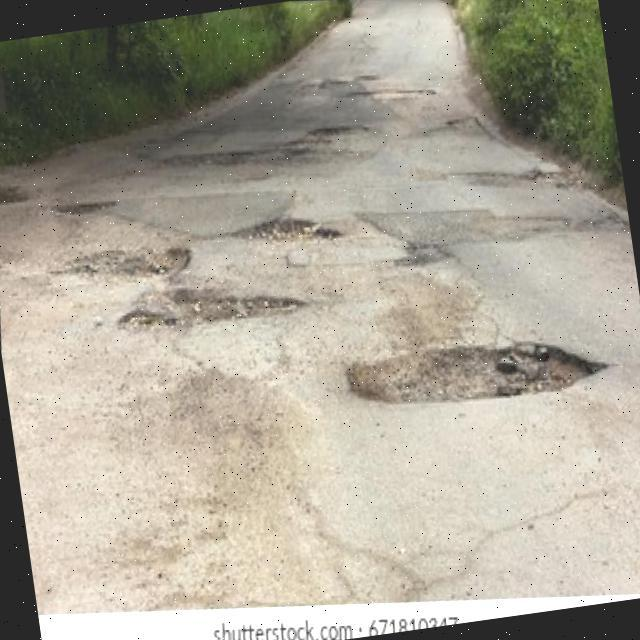Pothole: (344, 335, 609, 407), (122, 288, 306, 332), (51, 245, 190, 279), (233, 218, 340, 243), (0, 182, 30, 204)
